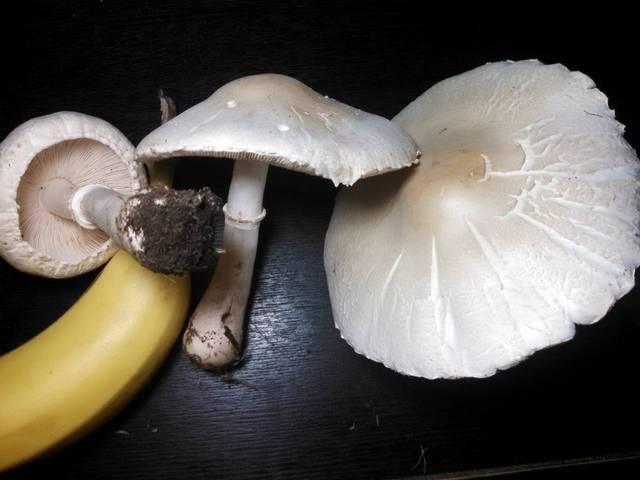Non-edible Mushroom: (322, 56, 639, 380), (132, 71, 421, 373), (0, 108, 146, 279)
